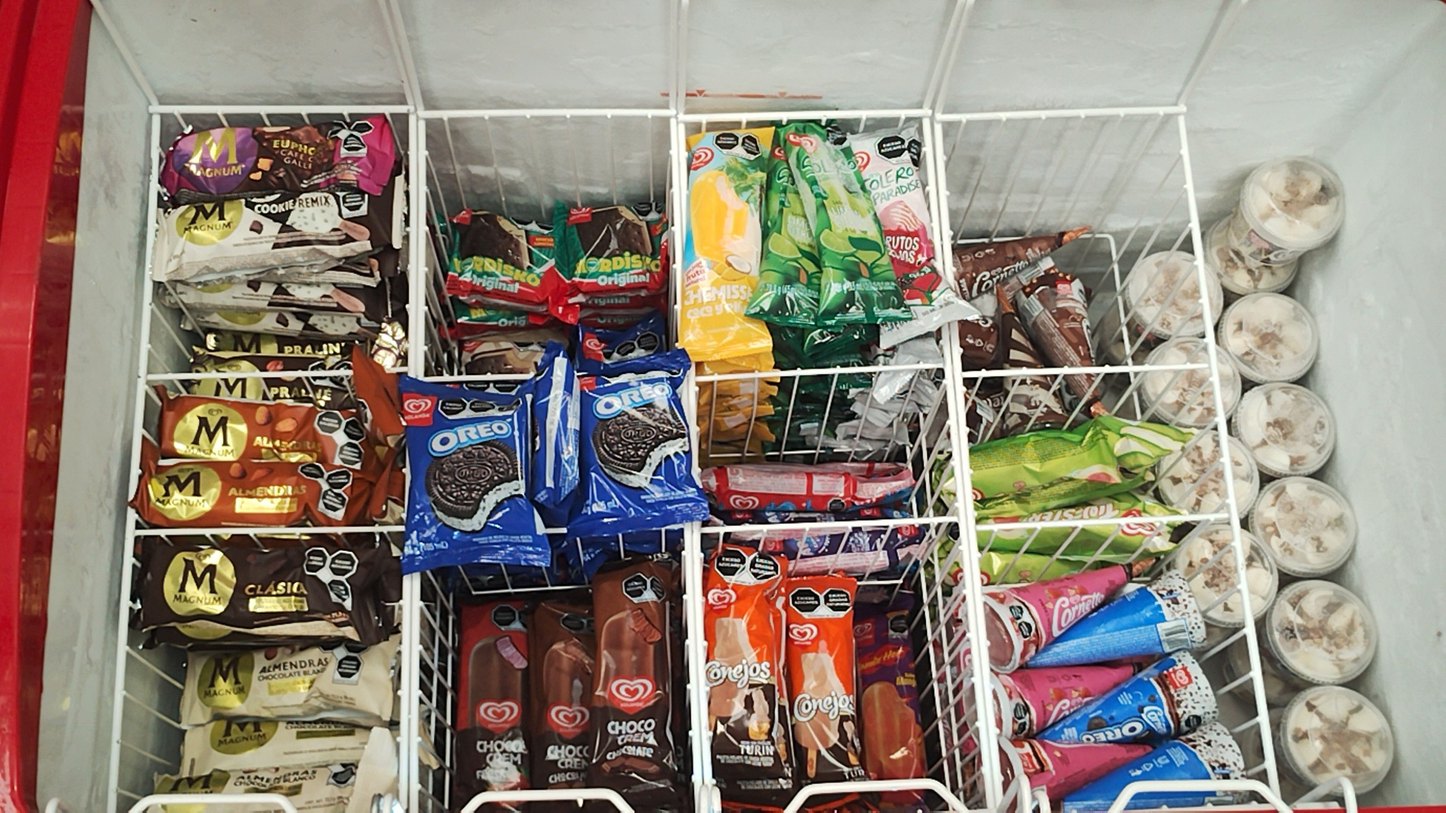rejilla: (1179, 115, 1280, 799), (943, 325, 995, 807), (951, 323, 1003, 803), (130, 190, 158, 496), (110, 508, 133, 812), (685, 524, 702, 803), (697, 362, 943, 381), (694, 523, 711, 783), (701, 516, 960, 532), (978, 513, 1231, 529), (962, 364, 1209, 377), (936, 108, 1182, 120), (936, 124, 954, 287), (924, 118, 942, 271), (670, 119, 683, 310), (682, 110, 928, 120), (133, 526, 405, 535), (408, 113, 417, 377), (410, 572, 419, 812), (400, 574, 409, 809), (417, 119, 425, 380), (151, 106, 414, 113), (147, 370, 352, 378), (417, 111, 675, 116), (679, 122, 686, 237), (689, 368, 697, 466), (424, 375, 534, 381), (152, 114, 160, 190), (681, 382, 688, 416), (546, 527, 567, 533), (388, 367, 409, 371)
